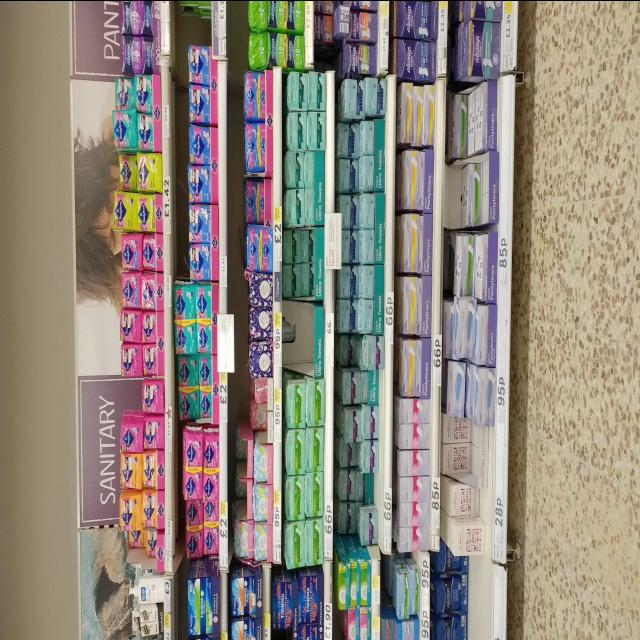empty_space: (284, 310, 313, 363), (179, 14, 210, 38)
